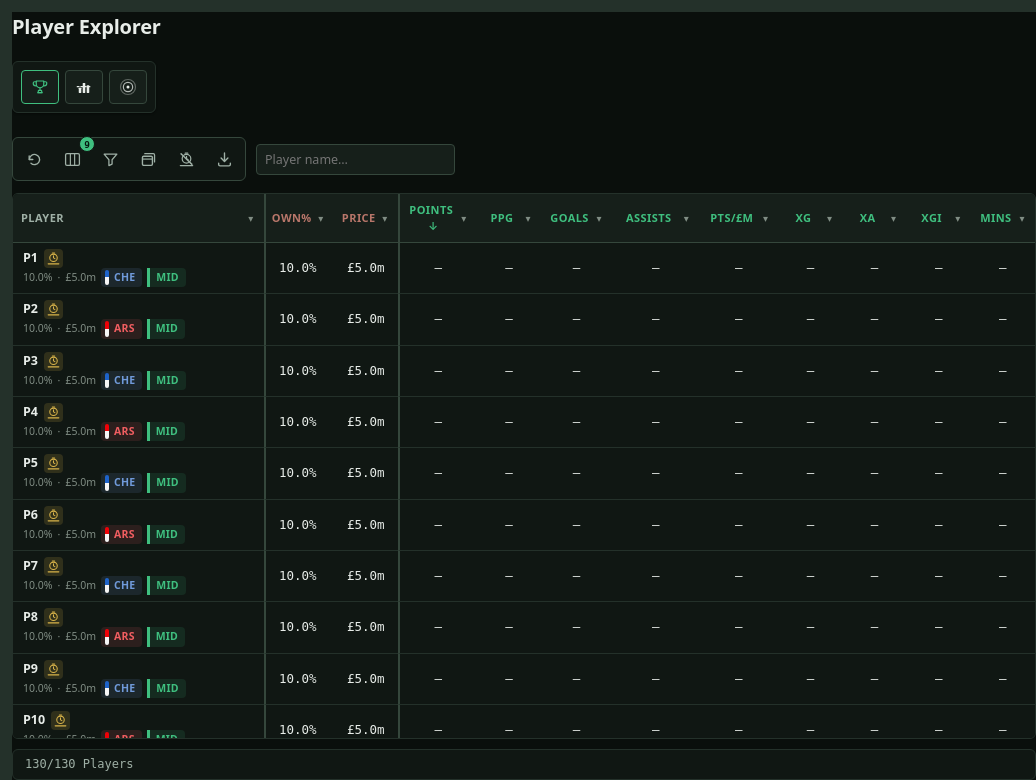
Player Explorer — only the rows in view are drawn (<row_window>) › a sort covers players outside the window
Click the button named "Current Season".
click(128, 87)  # box [109,70,147,104]
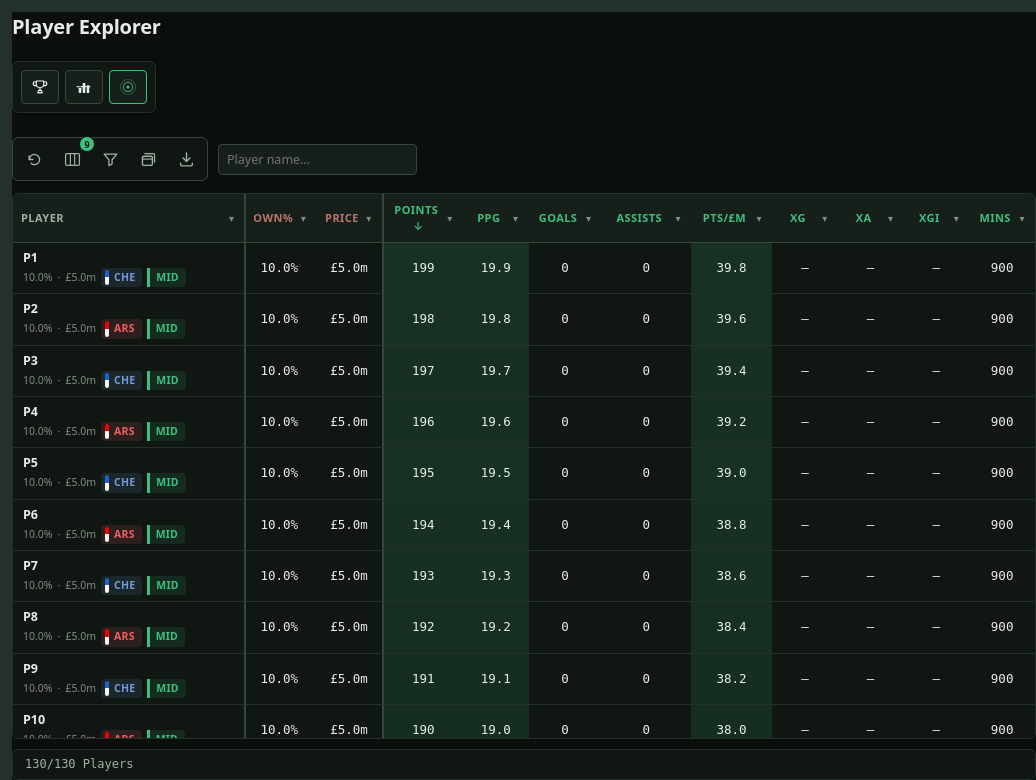
Click the column heading "Goals ▾".
click(565, 218)  # box [529,194,602,243]
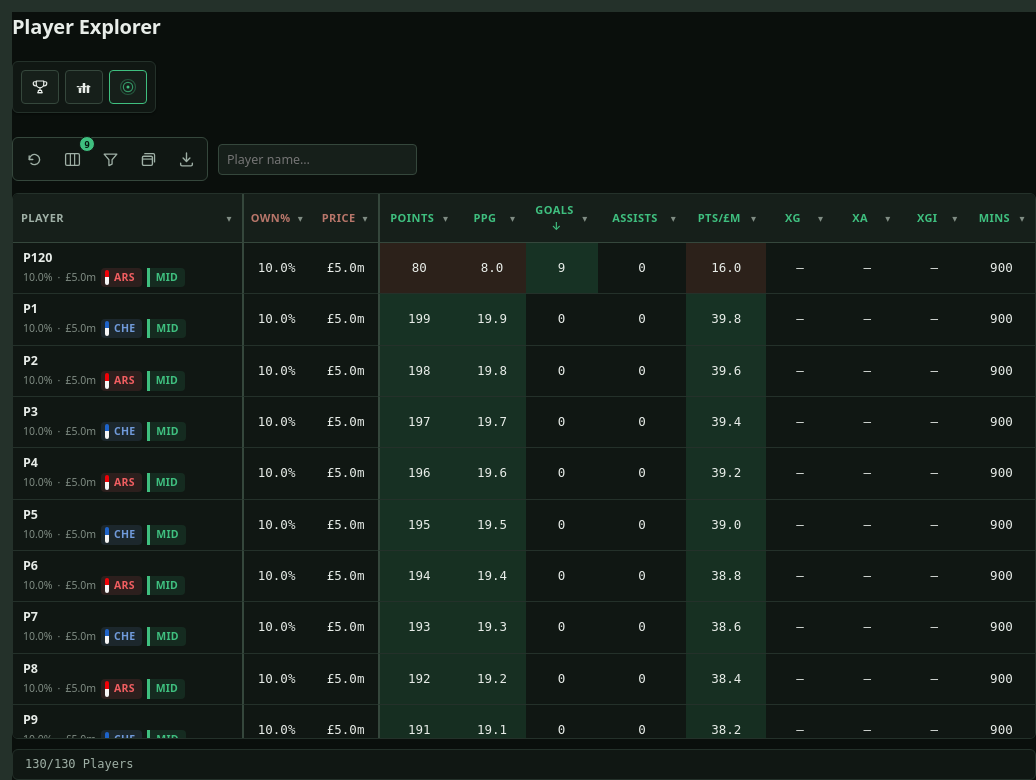
Now the button with class "name" reads "P120", box [23,249,52,266]
